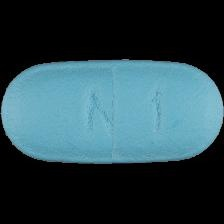55289-037: (0, 0, 224, 224)
